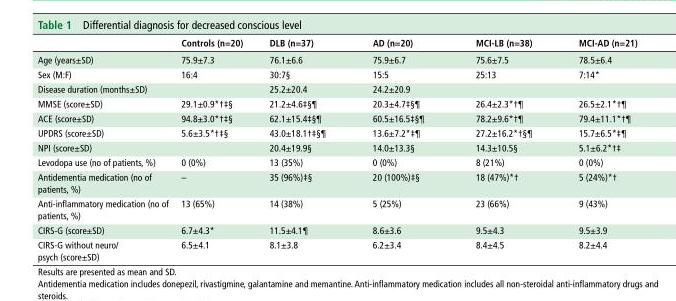table: (36, 36, 636, 261)
table column: (36, 36, 174, 261), (449, 36, 554, 261), (348, 36, 449, 261), (255, 36, 348, 261), (554, 36, 636, 261), (174, 36, 255, 261)
table column header: (36, 36, 636, 50)
table row: (36, 195, 636, 222), (36, 169, 636, 195), (36, 237, 636, 261), (36, 50, 636, 66), (36, 66, 636, 81), (36, 95, 636, 110), (36, 110, 636, 125), (36, 139, 636, 154), (36, 154, 636, 169), (36, 222, 636, 237), (36, 36, 636, 50), (36, 81, 636, 95), (36, 125, 636, 139)
